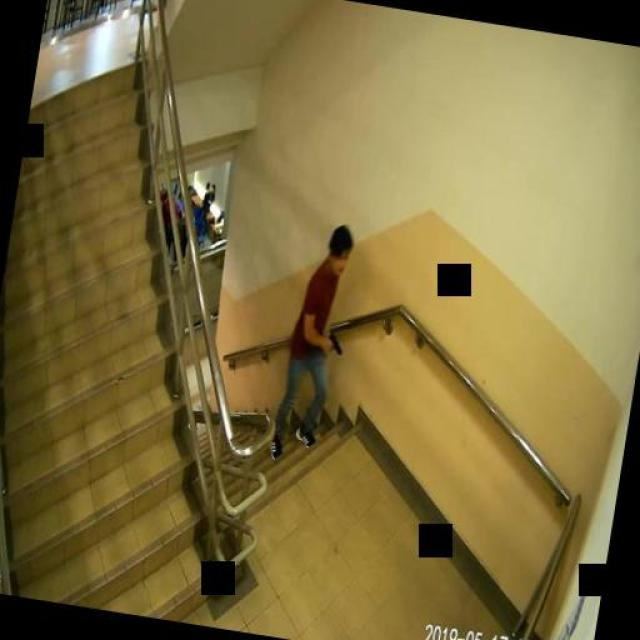gun: (321, 329, 344, 355)
